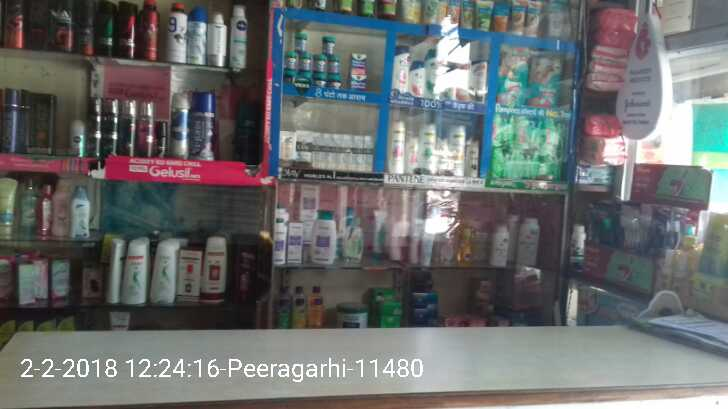vicks: (283, 30, 368, 93)
